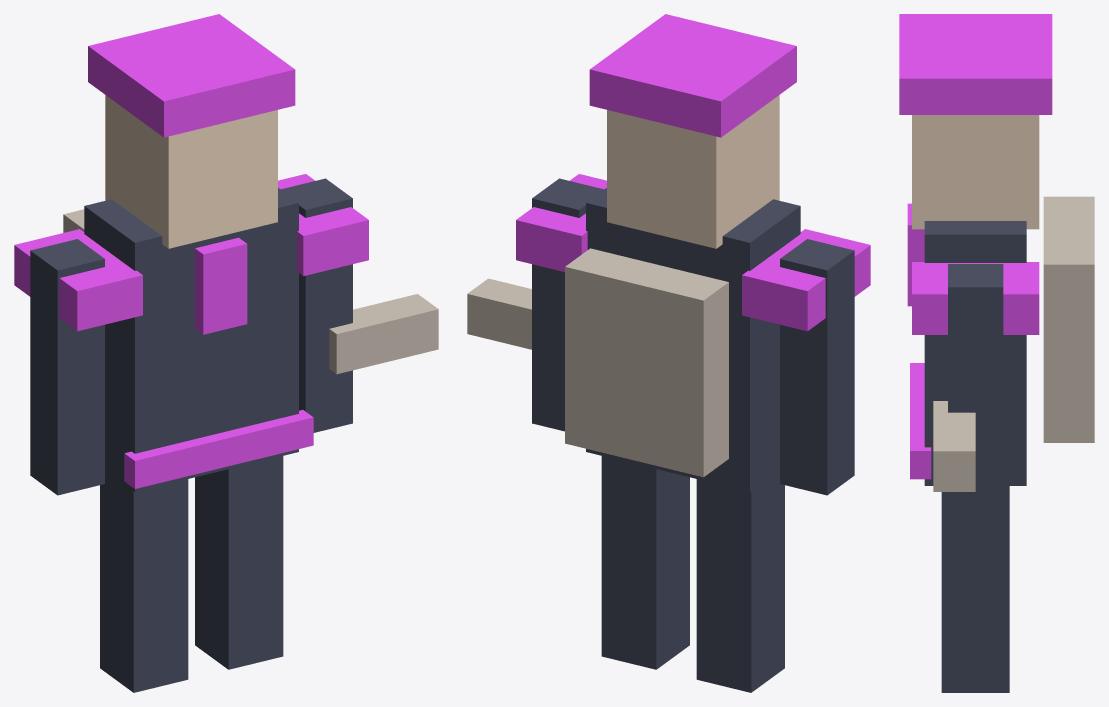
File: 12_isolde_starfall_courier_at_toll.glb
3 renders of one model, left to right at view 1: azimuth 30°, elevation 25°; view 2: azimuth 150°, elevation 25°; view 3: azimuth 270°, elevation 25°, orthographic.
Visible parts, largest first — view 1: Isolde Starfall, Courier at Toll; view 2: Isolde Starfall, Courier at Toll; view 3: Isolde Starfall, Courier at Toll.
Boxes of the visible parts, <box> form: Isolde Starfall, Courier at Toll: <box>14,14,438,692</box>; Isolde Starfall, Courier at Toll: <box>467,14,870,692</box>; Isolde Starfall, Courier at Toll: <box>899,14,1094,692</box>.
Bounding box in the file's own units: 0.9769 × 1.51 × 0.4384.
